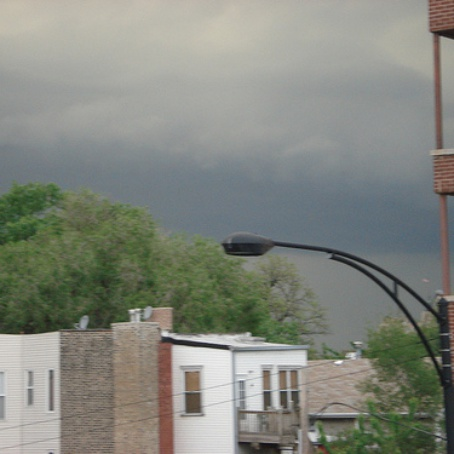building: (1, 319, 311, 454)
light pole: (221, 226, 454, 454)
sky: (1, 1, 437, 258)
tree: (162, 231, 325, 355), (1, 196, 163, 320)
